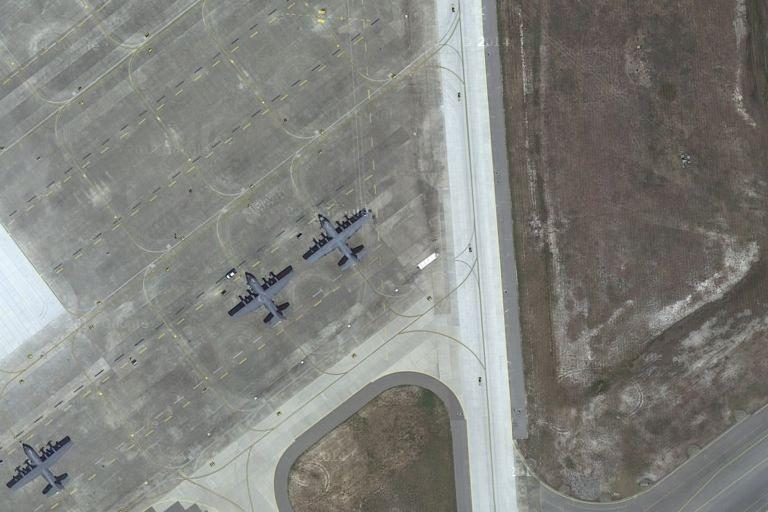C-130: (6, 435, 83, 500), (223, 265, 300, 330), (302, 207, 373, 274)
